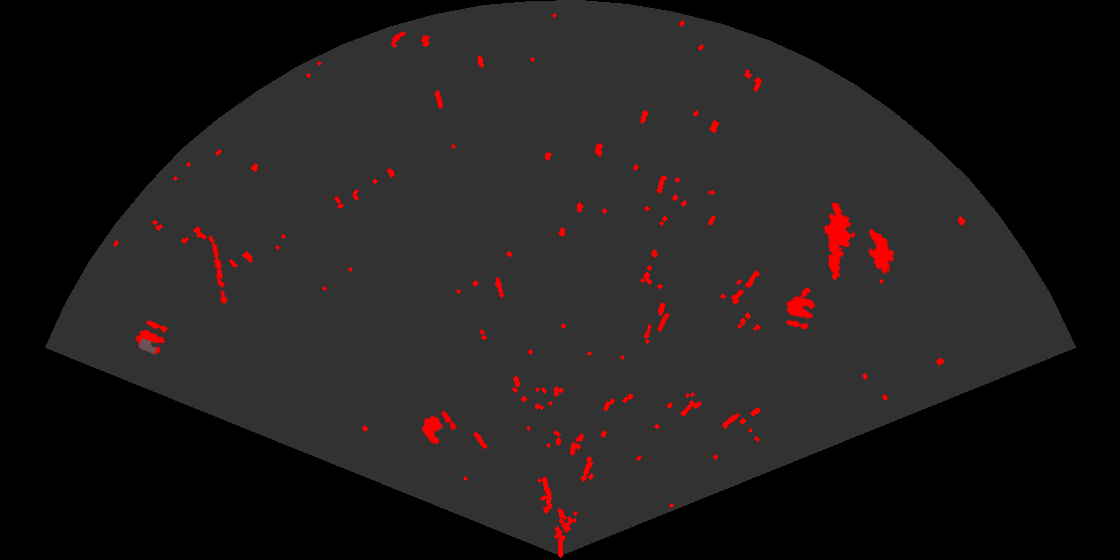AUV: (867, 227, 896, 275)
ball: (420, 409, 458, 446), (134, 319, 169, 356), (784, 294, 817, 331)
chain: (207, 233, 229, 304)
frogman: (822, 203, 857, 282)
